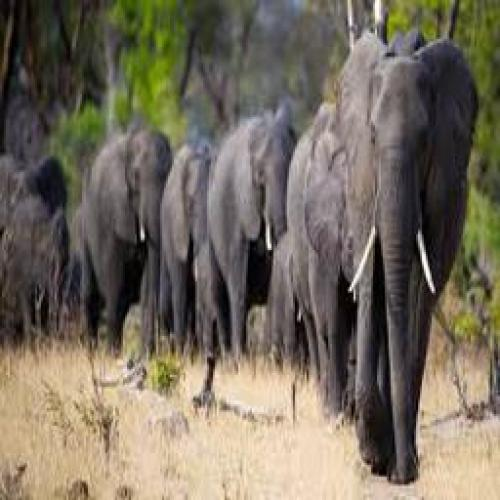african_elephant-endangered: (336, 41, 474, 480), (76, 126, 167, 352), (275, 103, 347, 385), (210, 107, 286, 358), (0, 143, 77, 336), (157, 139, 205, 348)
